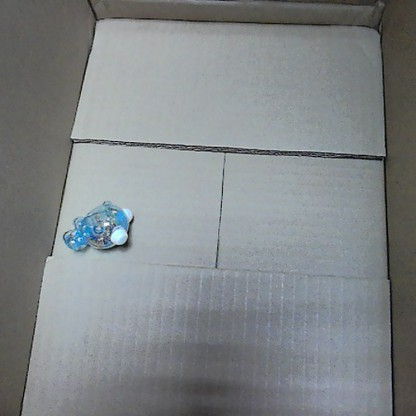bluefish: (60, 197, 135, 255)
